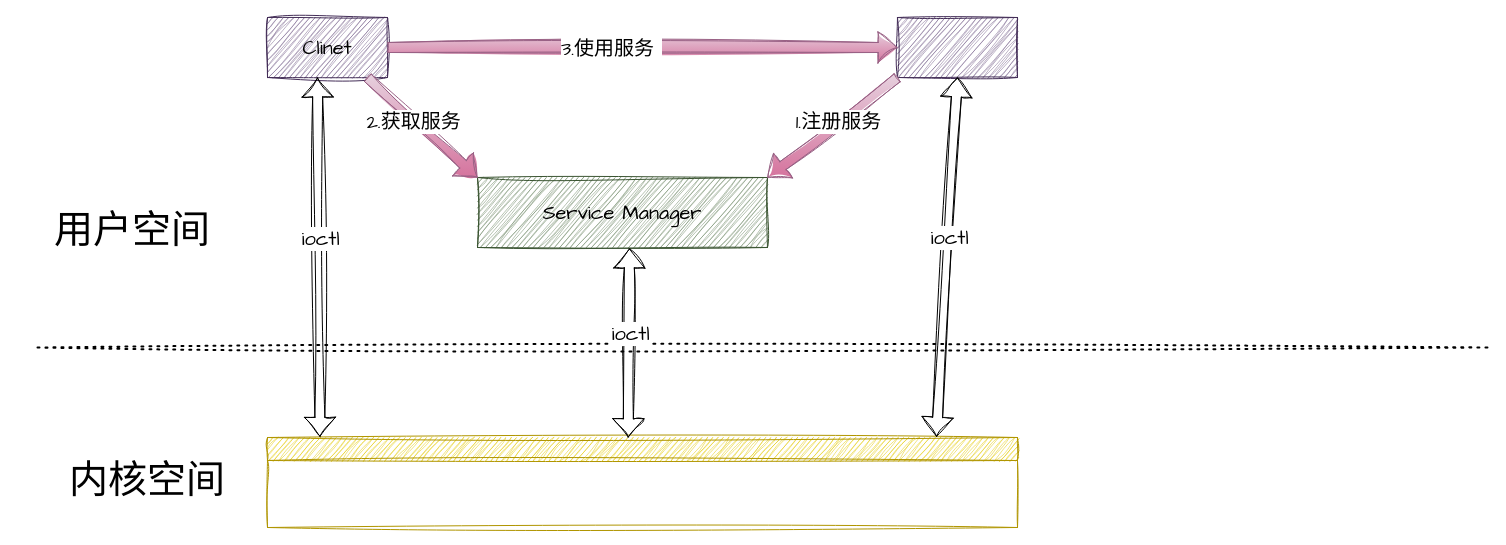
Image size: 1506x545. Some labels were removed from this diagram. The shapes that lost their labels are listed below. From the top down, each one's box as (x1, y1, x2, y2) in pixels, then its label:
(896, 16, 1018, 78): Server
(266, 436, 1018, 528): Binder Driver
